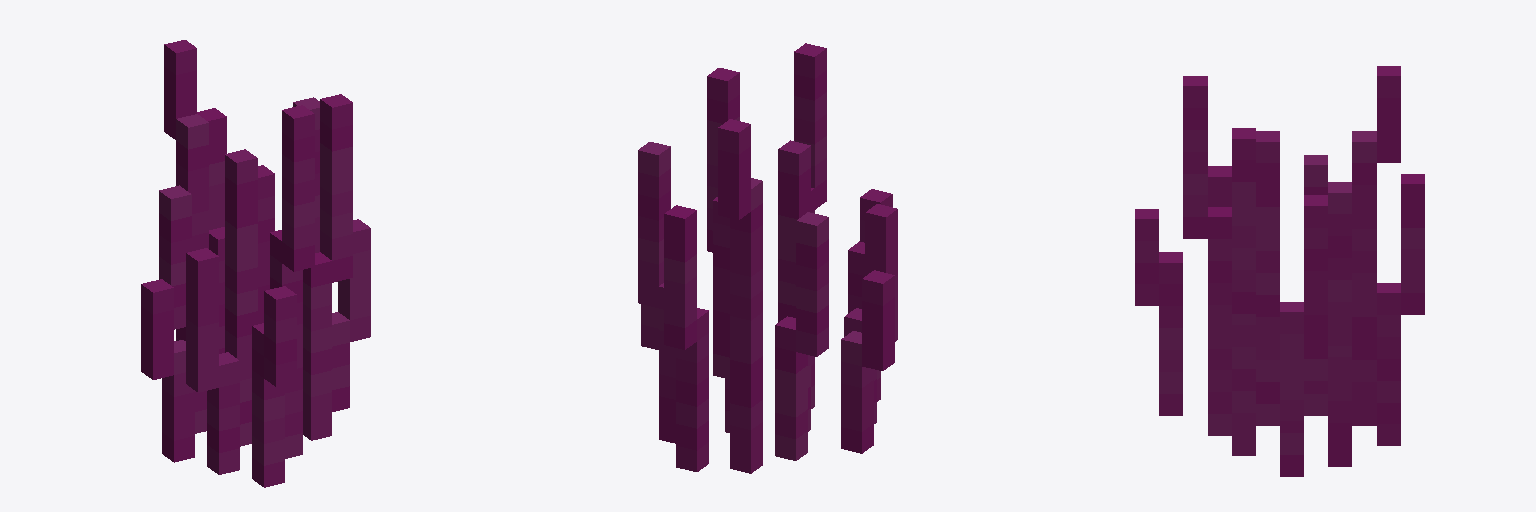
The picture shows the model from 3 angles: view 1: azimuth 30°, elevation 25°; view 2: azimuth 150°, elevation 25°; view 3: azimuth 270°, elevation 25°; orthographic projection.
Visible parts, largest first — view 1: object 1; view 2: object 1; view 3: object 1.
Part boxes in pixels (x1,y1,x2,y2): object 1: (141,40,370,487); object 1: (638,43,897,473); object 1: (1135,66,1424,476).
Size of the model in its own units: 1.1 by 1.6 by 1.2.
1 materials, 1 textured.